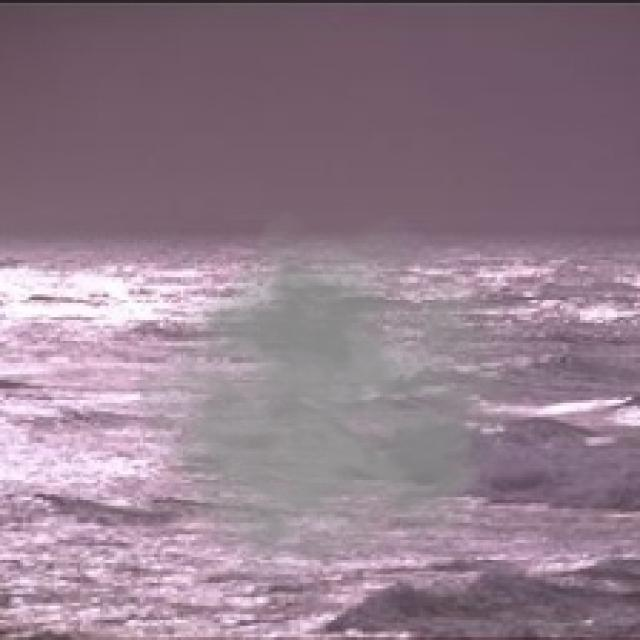Smoke: (134, 206, 557, 583)
